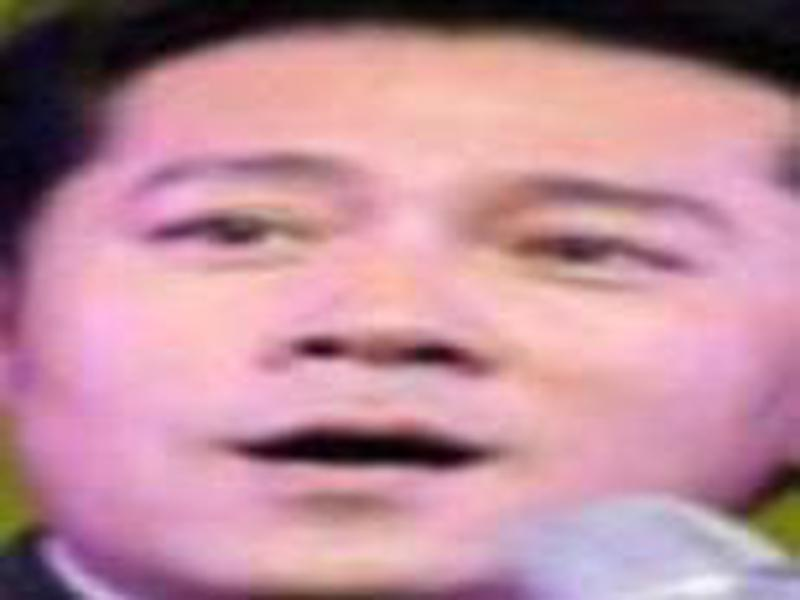without_mask: (7, 59, 798, 600)
